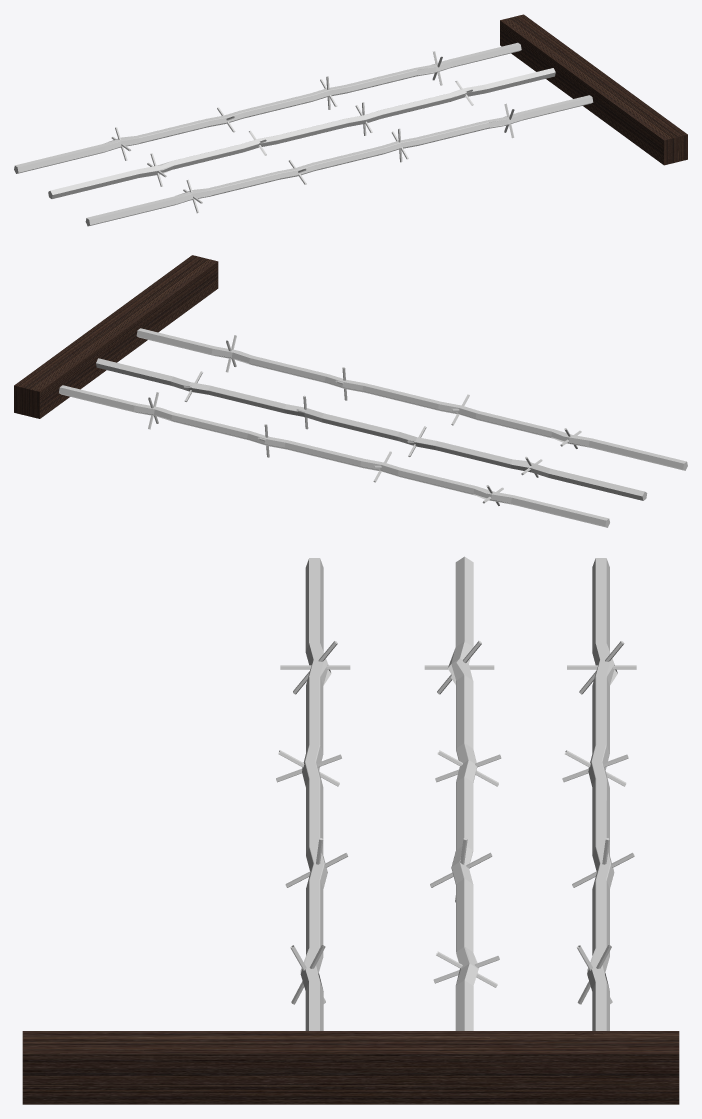
File: FencePrototype.fbx
3 views of the same model, one above another, from view 1: azimuth 30°, elevation 25°; view 2: azimuth 150°, elevation 25°; view 3: azimuth 270°, elevation 25° (orthographic). The views are drawn at different scales.
Visible parts, largest first — view 1: Cylinder.001, Cube; view 2: Cylinder.001, Cube; view 3: Cube, Cylinder.001.
Boxes of the visible parts, box(x1,y1,x2,y2) form: Cylinder.001: box(14, 42, 593, 226); Cube: box(500, 14, 687, 165); Cylinder.001: box(59, 328, 687, 527); Cube: box(14, 255, 218, 418); Cube: box(22, 1031, 679, 1104); Cylinder.001: box(276, 556, 636, 1030).
Bounding box in the file's own units: 514 × 29.44 × 277.
Materials: 1 (1 with a texture image).
